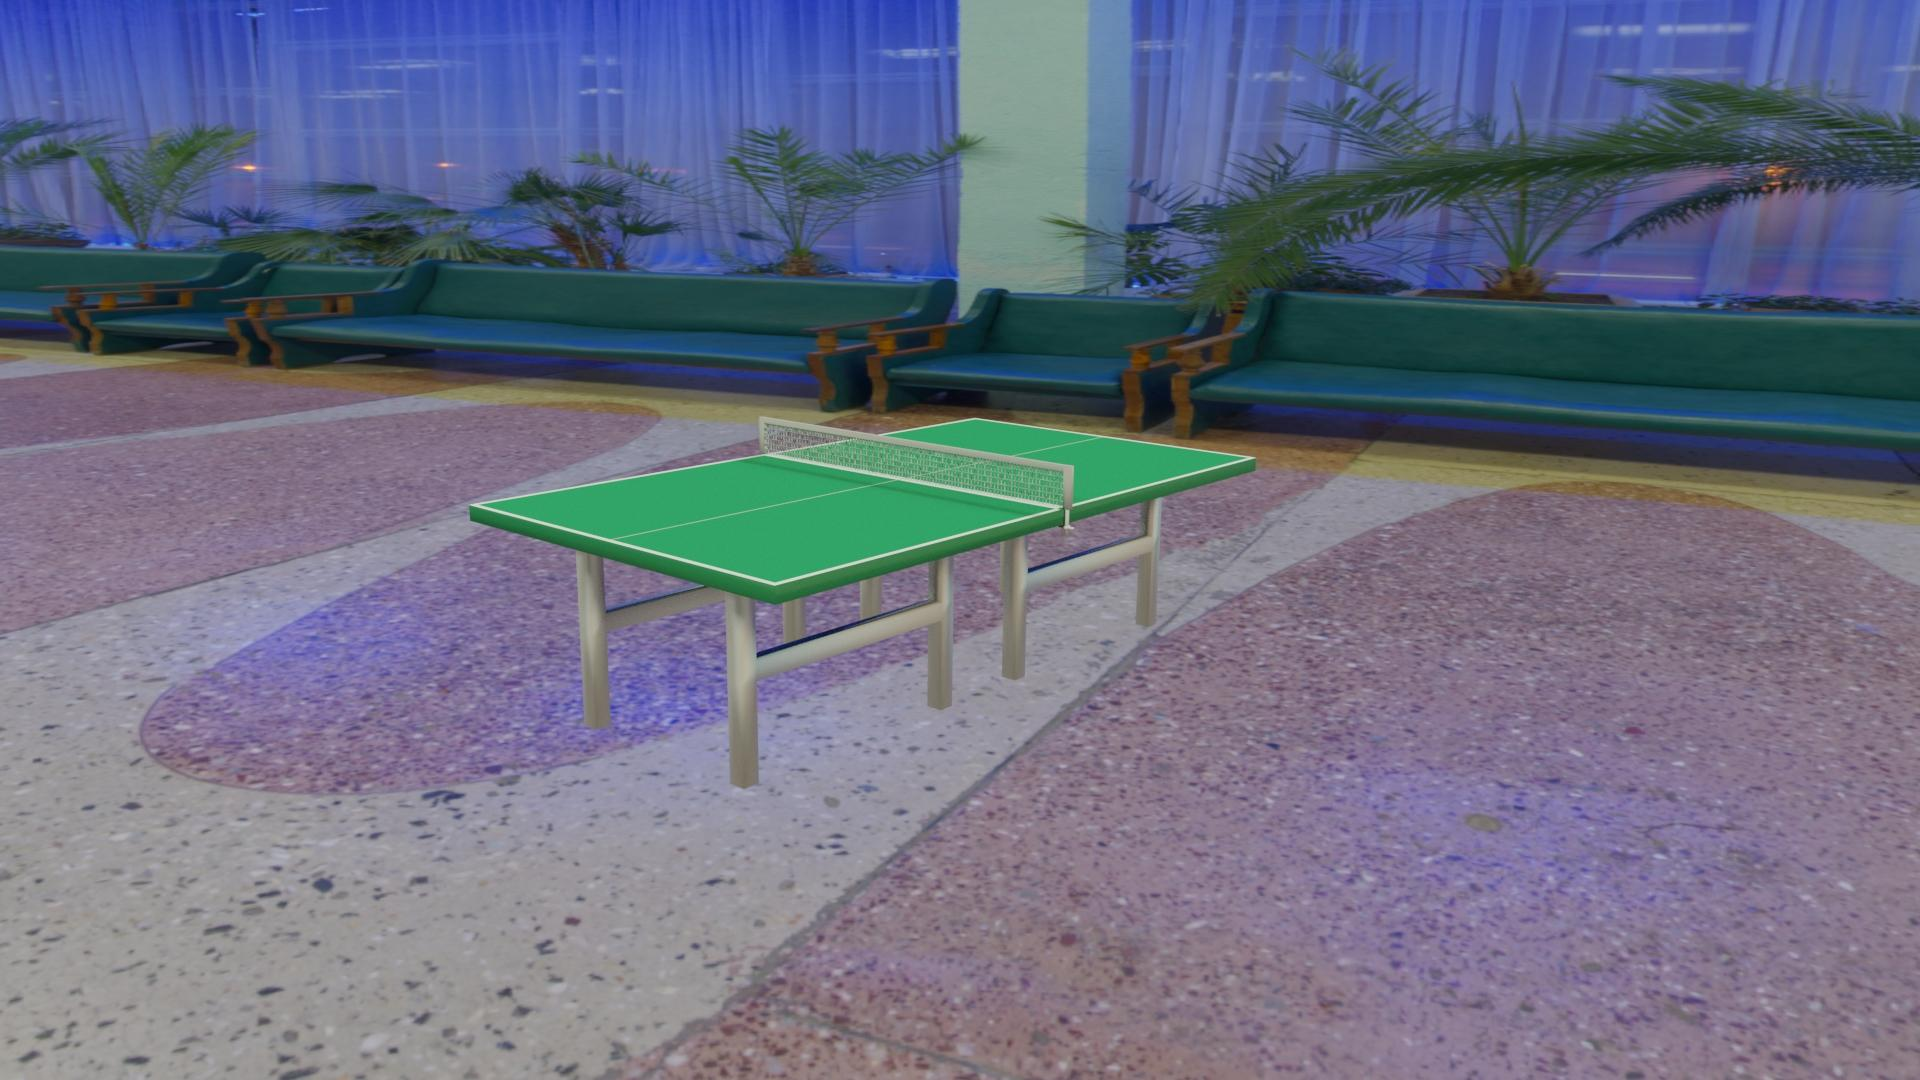table: (477, 419, 1250, 583)
